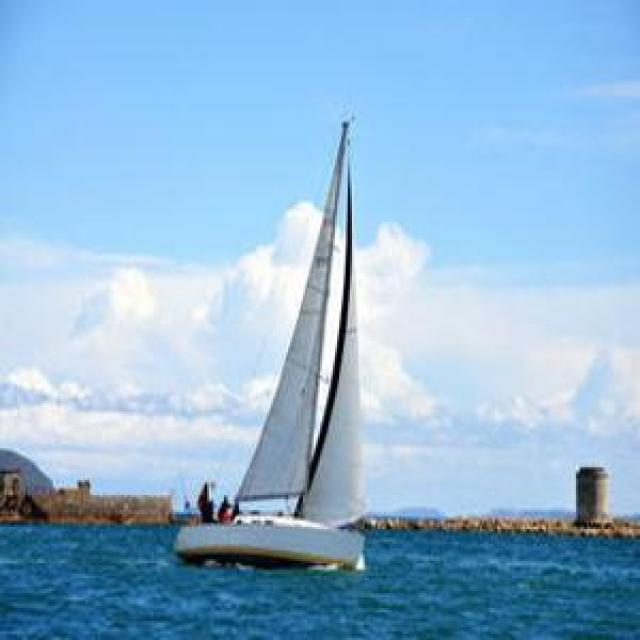sailboat: (168, 111, 376, 577)
